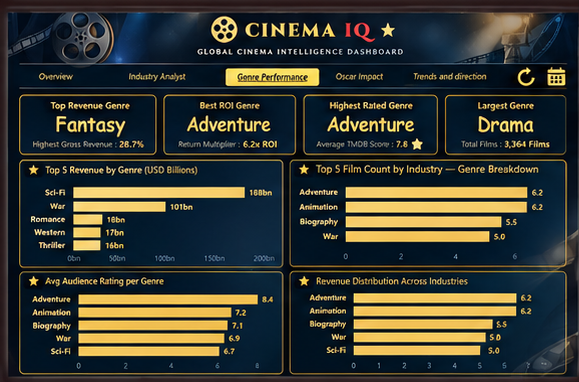

This screenshot's page, from the dashboard's own definition file:
{"tool":"powerbi","page":{"name":"Genre Performance","canvas":[1280,720],"ordinal":2},"visuals":[{"type":"cardVisual","fields":{"Data":["measures (3).Top Revenue Genre Name"]},"box":[10,126.7,283.3,176.7],"z":0},{"type":"cardVisual","fields":{"Data":["measures (3).Best ROI Genre Name"]},"box":[336.7,151.7,285,126.7],"z":1000},{"type":"cardVisual","fields":{"Data":["measures (3).Highest Rated Genre Name"]},"box":[621.7,151.7,353.3,126.7],"z":2000},{"type":"barChart","fields":{"Category":["Movies.Category"],"Y":["measures (3).Total Revenue Value"]},"box":[36.7,308.3,603.3,165],"z":3000},{"type":"cardVisual","fields":{"Data":["measures (3).Largest Genre Name"]},"box":[948.3,170,313.3,90],"z":4000},{"type":"cardVisual","fields":{"Data":["measures (3).Largest Genre Value"]},"box":[970,206.7,301.7,100],"z":5000},{"type":"cardVisual","fields":{"Data":["measures (3).Top Revenue Genre %"]},"box":[60,208.3,313.3,100],"z":6000},{"type":"cardVisual","fields":{"Data":["measures (3).Best ROI Genre Value"]},"box":[355,208.3,301.7,100],"z":7000},{"type":"cardVisual","fields":{"Data":["measures (3).Highest Rated Industry Value"]},"box":[701.7,203.3,303.3,105],"z":8000},{"type":"barChart","fields":{"Category":["Movies.Category"],"Y":["measures (3).Average Rating"]},"box":[36.7,516.7,585,166.7],"z":9000},{"type":"barChart","fields":{"Category":["Movies.Category"],"Y":["measures (3).ROI Multiplier"]},"box":[658.3,291.7,585,151.7],"z":10000},{"type":"pageNavigator","box":[0,120,1155,38.3],"z":11000},{"type":"actionButton","box":[1153.3,103.3,83.3,70],"z":12000},{"type":"barChart","fields":{"Category":["Movies.Category"],"Y":["measures (3).ROI"]},"box":[656.7,491.7,595,190],"z":13000},{"type":"image","box":[1202.5,112.5,65,45],"z":14000}]}

Visuals, with their boxes on the page's 1280x720 design canvas (x1, y1, x2, y2). These are canvas units, not pixel positions in the 579x382 screenshot, which may show the page scaled, cropped or inside an application window:
cardVisual - measures (3).Top Revenue Genre Name: box(10, 127, 293, 303)
cardVisual - measures (3).Best ROI Genre Name: box(337, 152, 622, 278)
cardVisual - measures (3).Highest Rated Genre Name: box(622, 152, 975, 278)
barChart - Movies.Category x measures (3).Total Revenue Value: box(37, 308, 640, 473)
cardVisual - measures (3).Largest Genre Name: box(948, 170, 1262, 260)
cardVisual - measures (3).Largest Genre Value: box(970, 207, 1272, 307)
cardVisual - measures (3).Top Revenue Genre %: box(60, 208, 373, 308)
cardVisual - measures (3).Best ROI Genre Value: box(355, 208, 657, 308)
cardVisual - measures (3).Highest Rated Industry Value: box(702, 203, 1005, 308)
barChart - Movies.Category x measures (3).Average Rating: box(37, 517, 622, 683)
barChart - Movies.Category x measures (3).ROI Multiplier: box(658, 292, 1243, 443)
pageNavigator: box(0, 120, 1155, 158)
actionButton: box(1153, 103, 1237, 173)
barChart - Movies.Category x measures (3).ROI: box(657, 492, 1252, 682)
image: box(1202, 112, 1268, 158)
